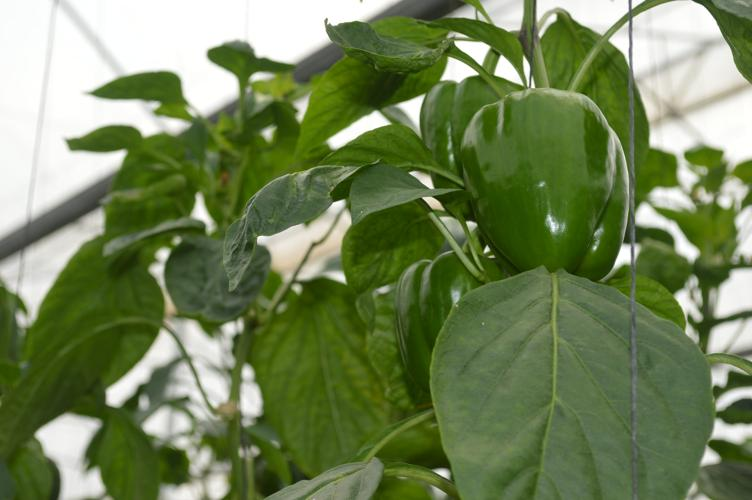BellPepper: (471, 88, 625, 279), (396, 254, 496, 402), (420, 77, 523, 211)
